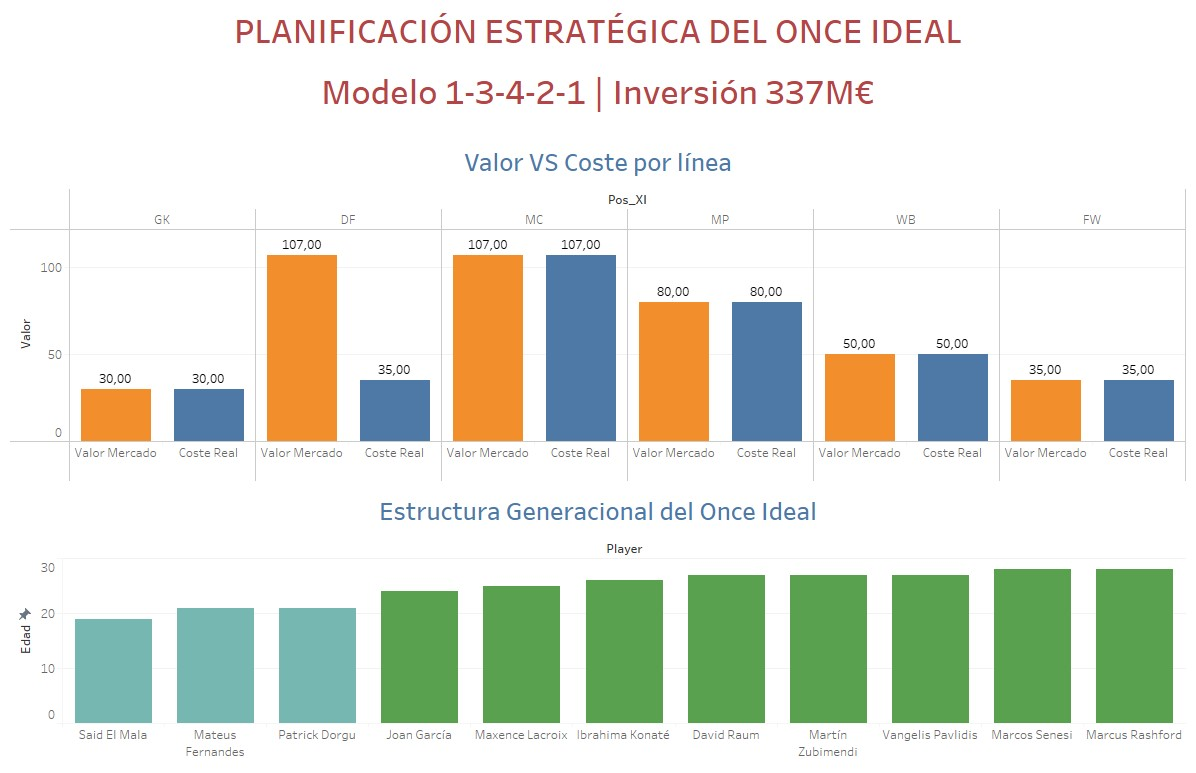

Layout of this report page (visuals, bound fields, positions):
{"tool":"tableau","page":{"name":"Planificción Estratégica del Once Ideal","canvas":[1200,800],"ordinal":1},"visuals":[{"type":"text","box":[8,8,1184,154]},{"type":"worksheet","title":"Valor vs Coste por línea","mark":"Bar","cols":["Calculation_1928385108821856257"],"box":[8,162,1184,349]},{"type":"worksheet","title":"Estructura de Edad del XI","mark":"Bar","rows":["Age"],"cols":["Player"],"box":[8,511,1184,281]}]}

Visuals, with their boxes on the page's 1200x800 design canvas (x1, y1, x2, y2). These are canvas units, not pixel positions in the 1196x773 screenshot, which may show the page scaled, cropped or inside an application window:
text: (8, 8, 1192, 162)
"Valor vs Coste por línea" worksheet (Bar marks): (8, 162, 1192, 511)
"Estructura de Edad del XI" worksheet (Bar marks): (8, 511, 1192, 792)
